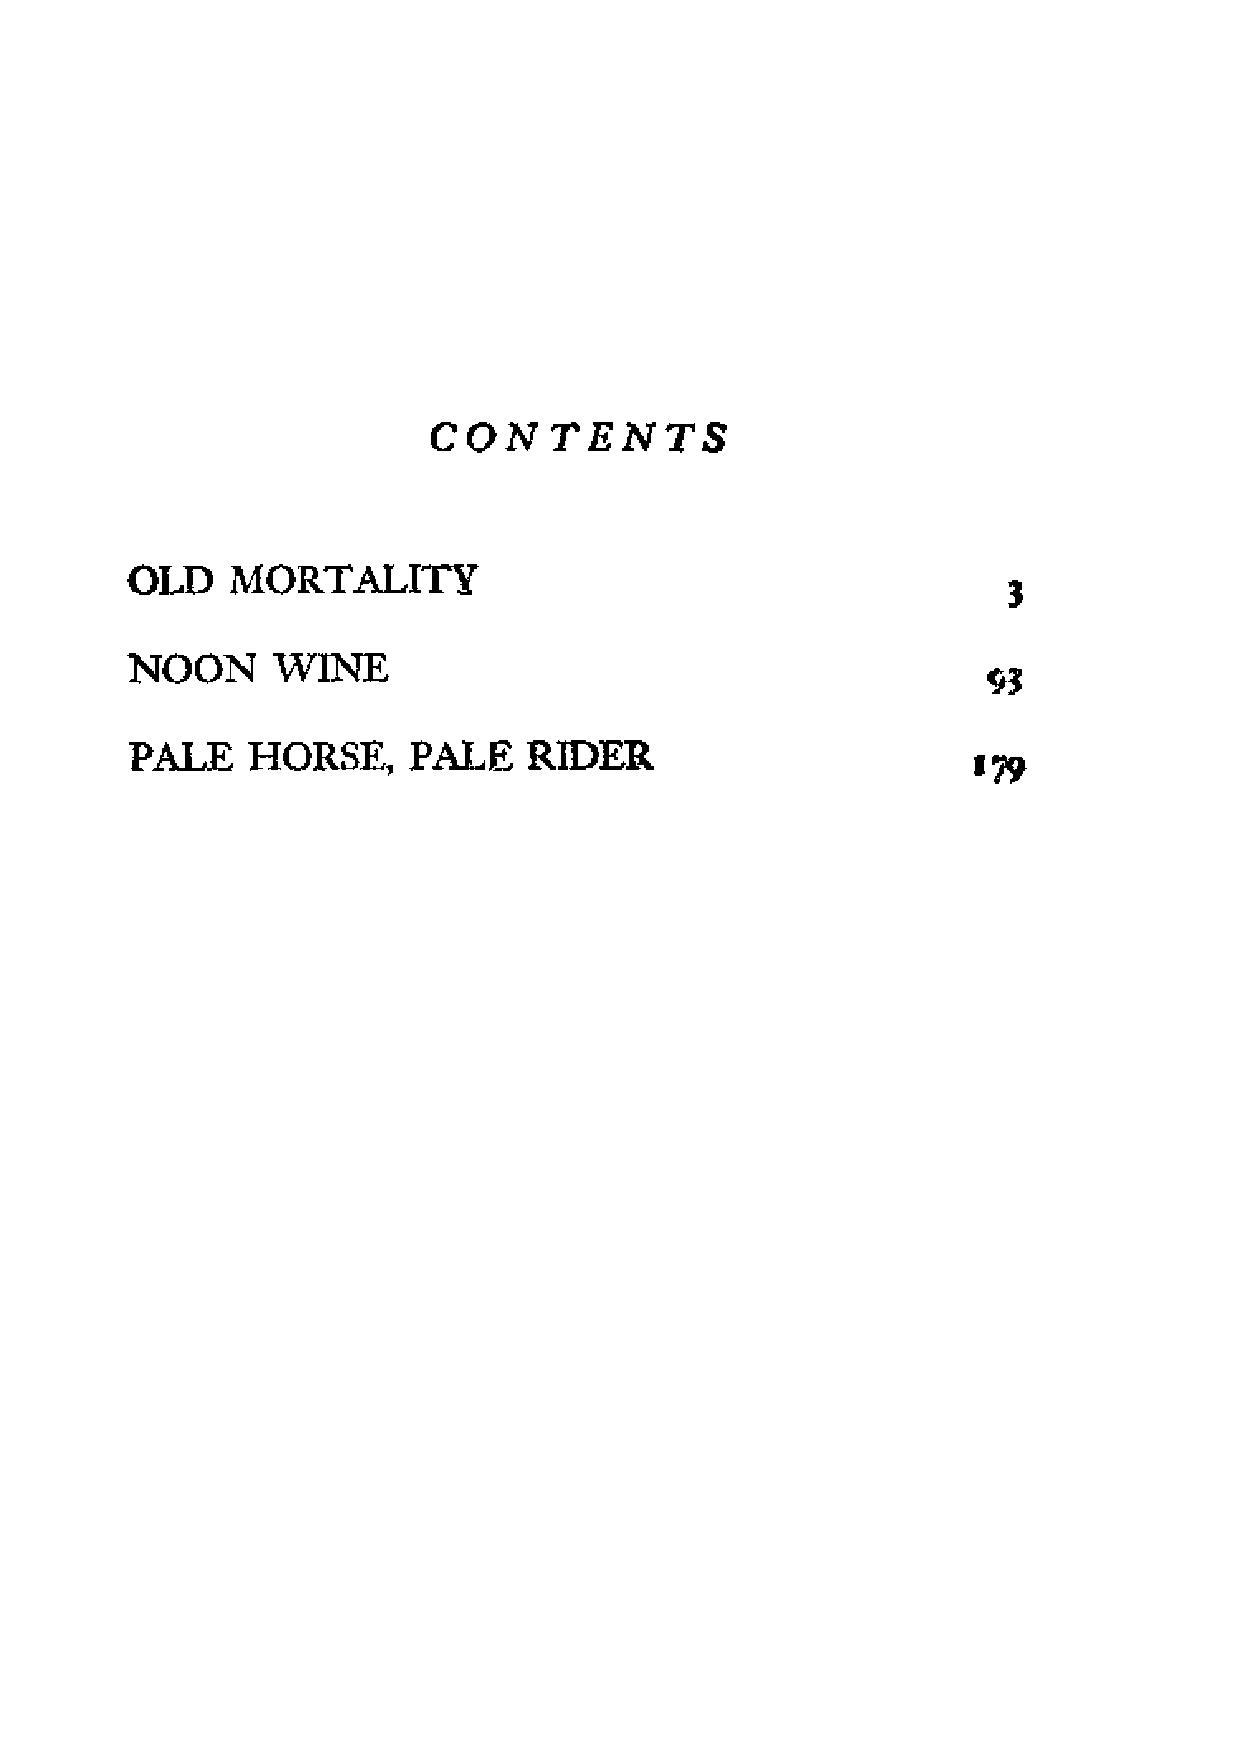TOC_chapter: (123, 735, 656, 774), (123, 561, 483, 597), (126, 648, 391, 684)
TOC_pagenumber: (968, 752, 1031, 785), (982, 660, 1024, 697), (993, 578, 1028, 609)
chapter: (424, 415, 727, 454)
